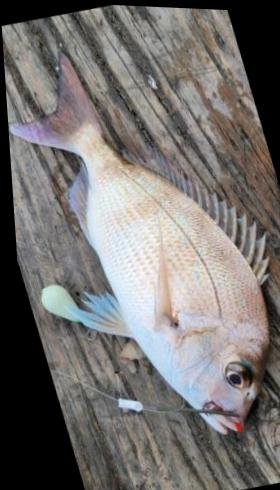fish: (9, 55, 265, 431)
